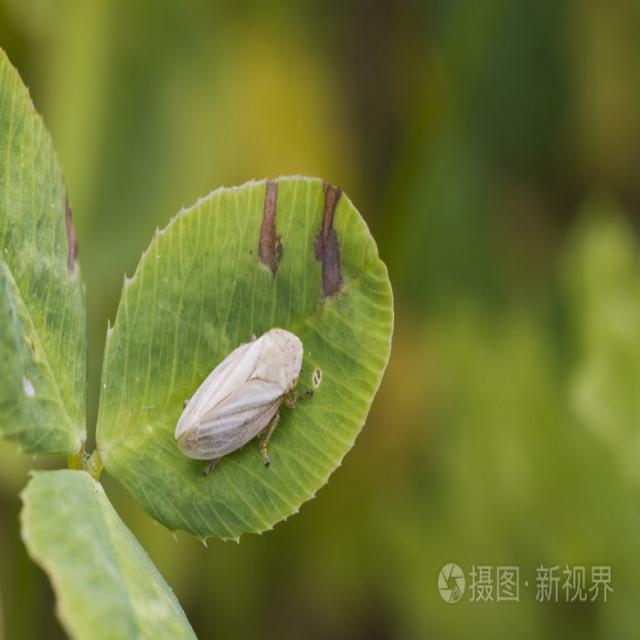Yechan: (165, 318, 320, 472)
